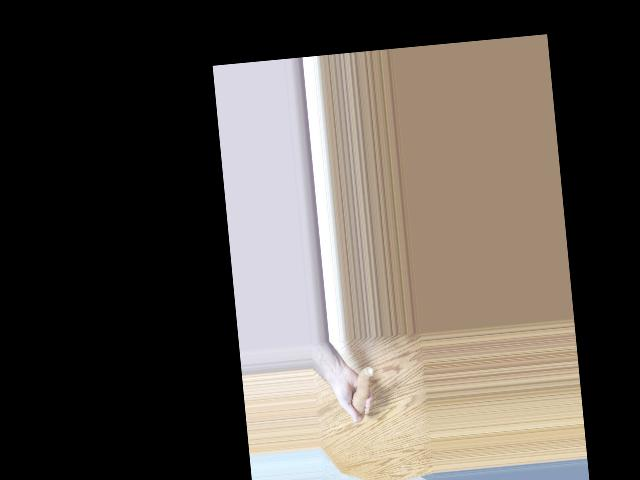sweet_potato: (348, 362, 377, 425)
